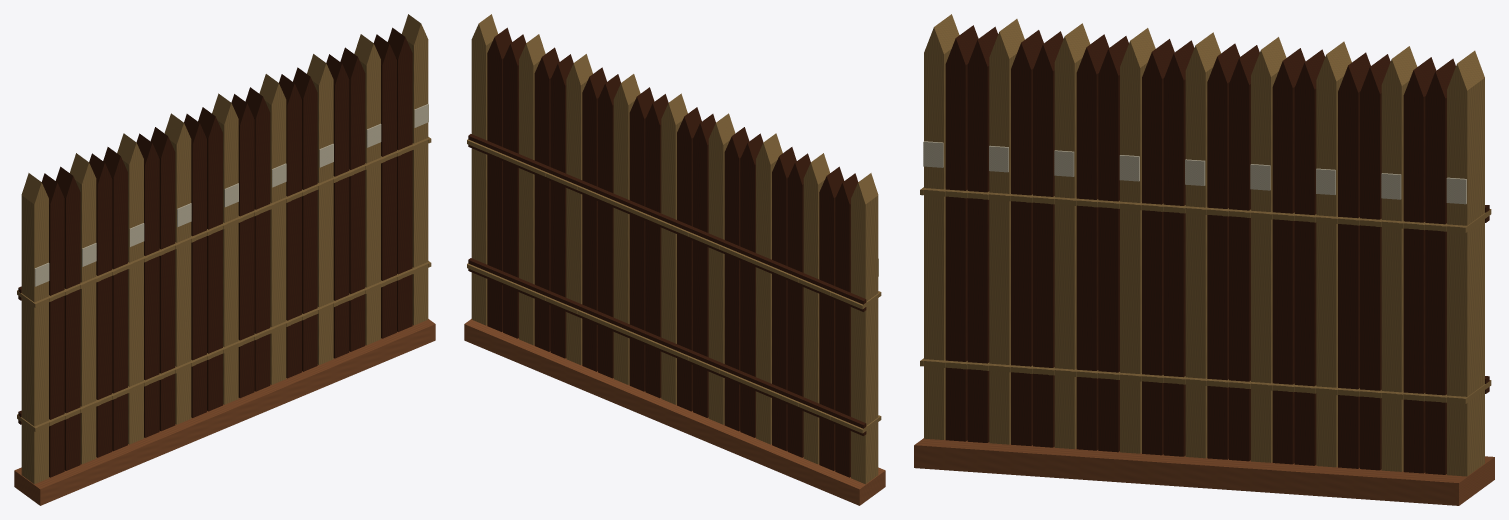
File: Berber_Palisade_Age1_slope_up_6m.fbx
The picture shows the model from 3 angles, left to right: view 1: azimuth 30°, elevation 25°; view 2: azimuth 150°, elevation 25°; view 3: azimuth 330°, elevation 25°; orthographic projection. The views are drawn at different scales.
Visible parts, largest first — view 1: palm_split_post.051, palm_split_post.049, palm_split_post.047, palm_split_post.054, palm_split_post.044, earth_seat.007, palm_split_post.050, palm_split_post.053, palm_split_post.056, front_lashing.007, neutral_owner_painted_stripe.007, lashing_side.007; view 2: palm_split_post.051, palm_split_post.049, palm_split_post.047, palm_split_post.054, palm_split_post.044, earth_seat.007, palm_split_post.050, palm_split_post.056, palm_split_post.053, continuous_rear_tie.007, back_lashing.007, lashing_side.007; view 3: palm_split_post.049, palm_split_post.054, palm_split_post.047, palm_split_post.051, palm_split_post.044, earth_seat.007, palm_split_post.053, palm_split_post.056, palm_split_post.050, front_lashing.007, neutral_owner_painted_stripe.007, lashing_side.007.
Part boxes in pixels (x1,y1,x2,y2): palm_split_post.051: (89, 47, 365, 457); palm_split_post.049: (56, 34, 396, 470); palm_split_post.047: (41, 67, 317, 477); palm_split_post.054: (136, 27, 412, 437); palm_split_post.044: (21, 14, 428, 484); earth_seat.007: (14, 319, 435, 505); palm_split_post.050: (70, 74, 286, 464); palm_split_post.053: (117, 54, 333, 444); palm_split_post.056: (164, 34, 380, 424); front_lashing.007: (34, 138, 430, 430); neutral_owner_painted_stripe.007: (34, 104, 428, 286); lashing_side.007: (17, 137, 431, 431); palm_split_post.051: (534, 47, 810, 457); palm_split_post.049: (503, 34, 843, 470); palm_split_post.047: (582, 67, 858, 477); palm_split_post.054: (487, 27, 763, 437); palm_split_post.044: (471, 14, 878, 484); earth_seat.007: (464, 319, 885, 505); palm_split_post.050: (613, 74, 829, 464); palm_split_post.056: (519, 34, 735, 424); palm_split_post.053: (566, 54, 782, 444); continuous_rear_tie.007: (468, 134, 866, 435); back_lashing.007: (467, 140, 862, 433); lashing_side.007: (467, 139, 881, 433); palm_split_post.049: (967, 26, 1436, 473); palm_split_post.054: (1076, 34, 1455, 474); palm_split_post.047: (945, 25, 1325, 465); palm_split_post.051: (1011, 30, 1390, 470); palm_split_post.044: (924, 14, 1484, 476); earth_seat.007: (914, 438, 1494, 505); palm_split_post.053: (1054, 23, 1351, 467); palm_split_post.056: (1120, 28, 1417, 471); palm_split_post.050: (989, 19, 1286, 462); front_lashing.007: (921, 188, 1466, 403); neutral_owner_painted_stripe.007: (923, 141, 1466, 204); lashing_side.007: (920, 187, 1491, 403).
Size of the model in its own units: 601 by 556 by 68.29.
Materials: 4 (4 with a texture image).
